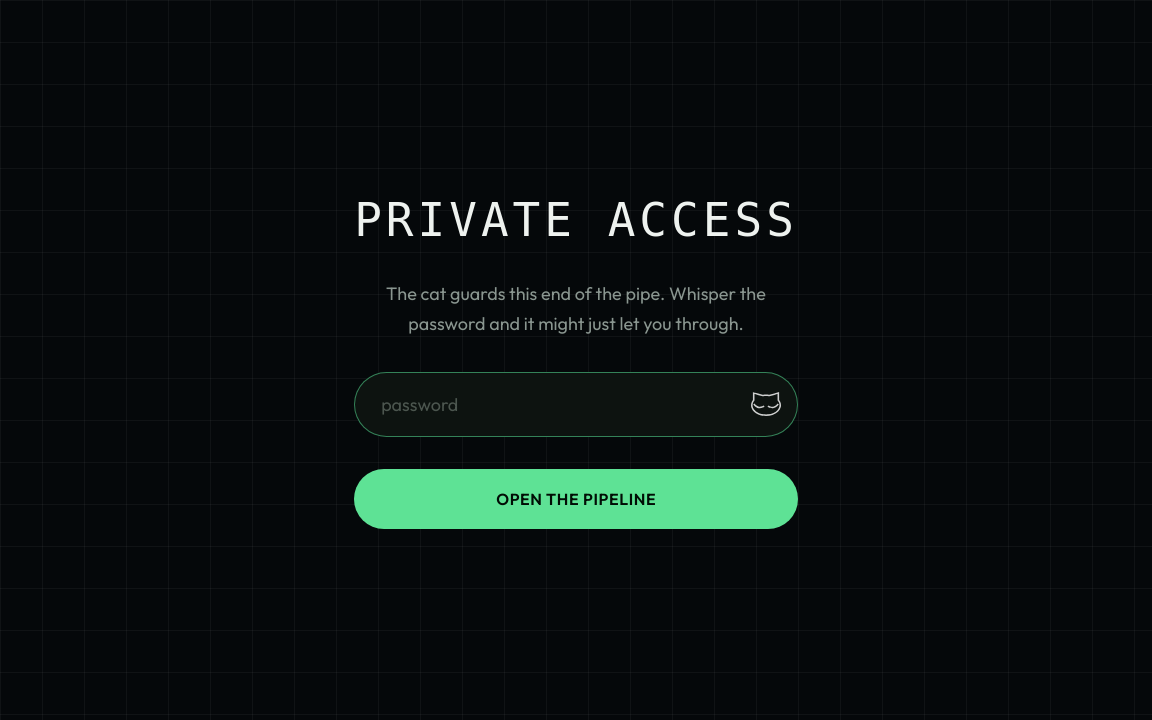
Scenario: LoginPage › shows a server error message on a 500
The width and height of the screenshot is (1152, 720).
In the password field labelled "password": (576, 404) x1=354 y1=372 x2=798 y2=437, type "nope"
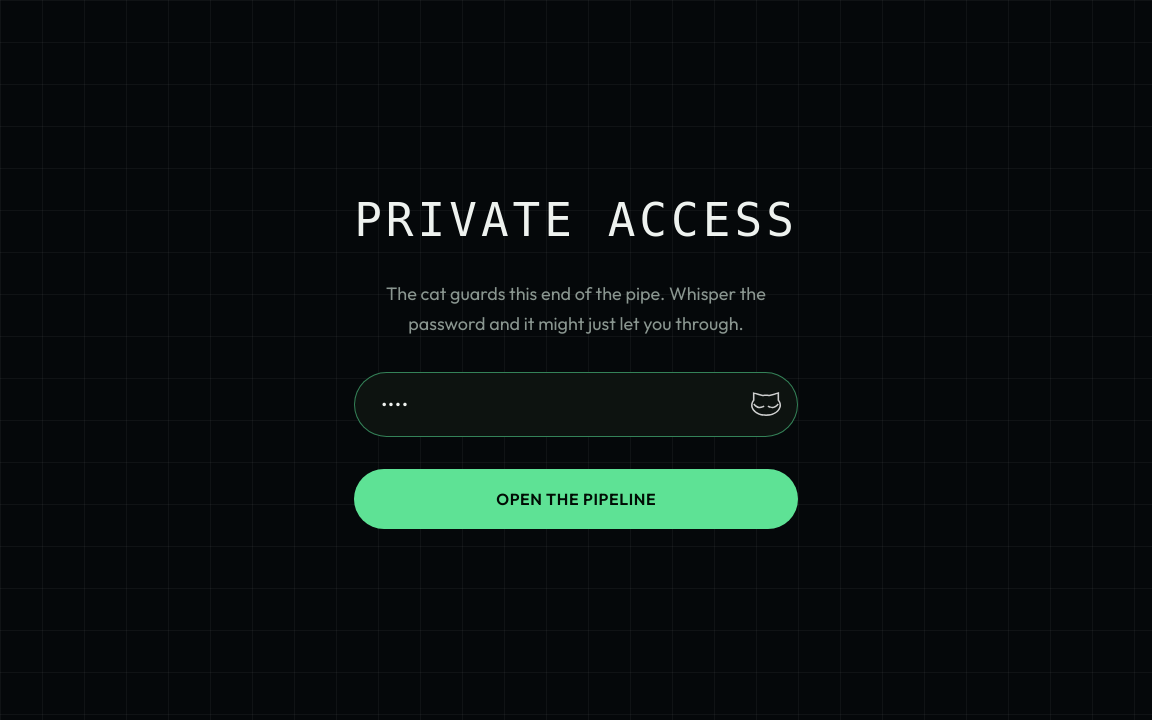
Click the button "OPEN THE PIPELINE": (576, 499) x1=354 y1=469 x2=798 y2=529
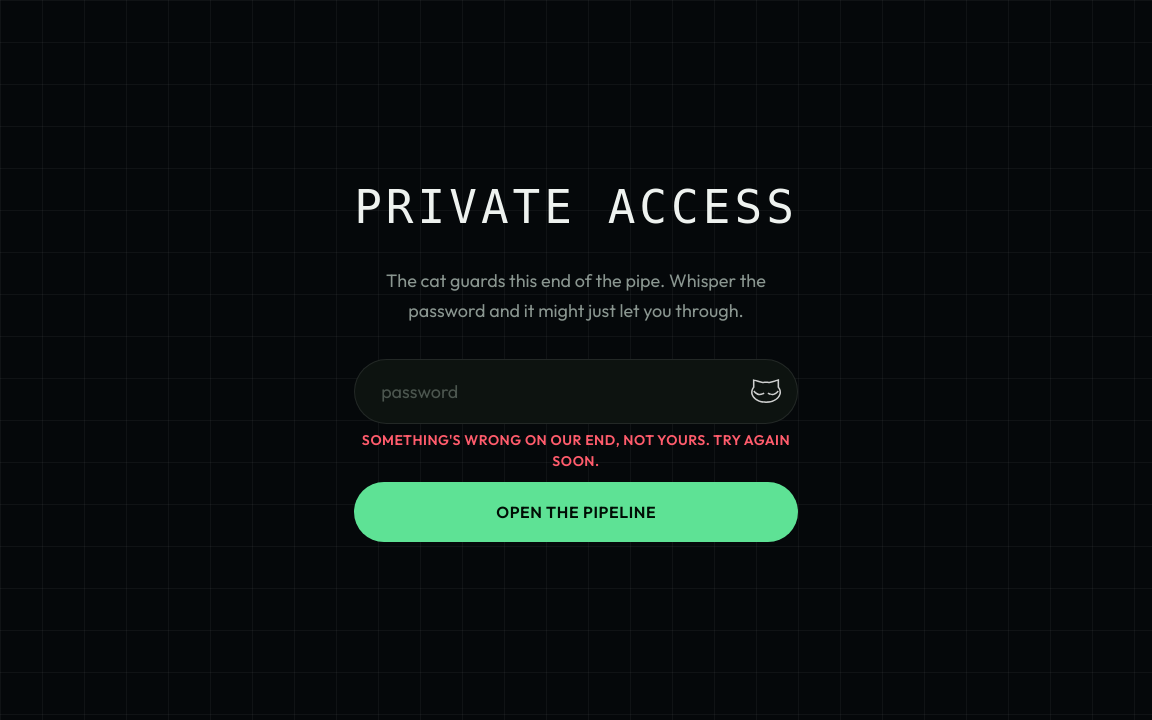
expect the text "SOMETHING'S WRONG ON OUR END, NOT YOURS. TRY AGAIN SOON." is shown: met, box x1=354 y1=430 x2=798 y2=472
